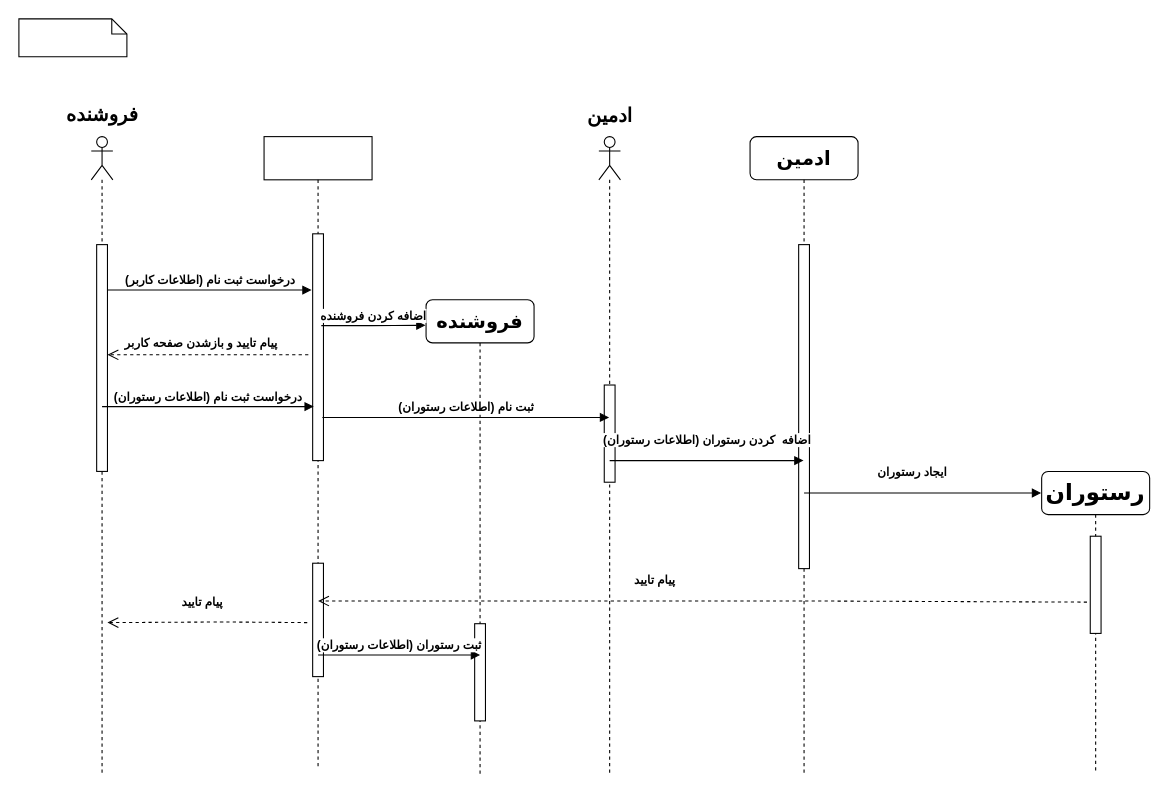
The diagram is 1169 pixels wide and 794 high, and some of its shapes have lost their labels. The centre of each missing label's shape, as x and y in pixels:
"(ثبت نام (رستوران" belongs at (x=72, y=37).
"سیستم" belongs at (x=317, y=452).
